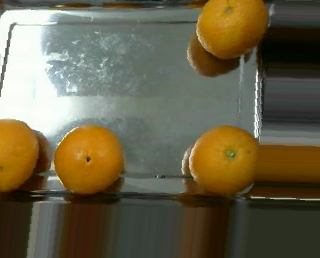Orange: (55, 122, 125, 195), (188, 125, 259, 195), (193, 1, 268, 58)
